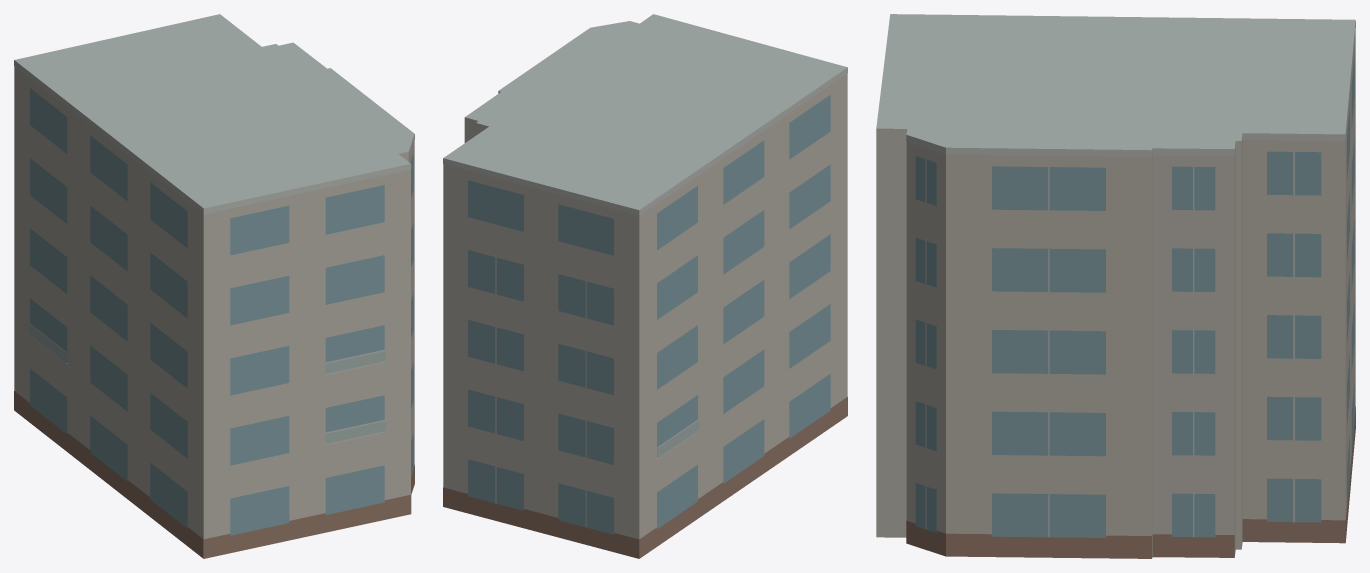
Rendered from survey-upis-32981274.glb.
The picture shows the model from 3 angles, left to right: view 1: azimuth 30°, elevation 25°; view 2: azimuth 150°, elevation 25°; view 3: azimuth 270°, elevation 25°; orthographic projection. The views are drawn at different scales.
Parts seen in each view (by area): view 1: survey-upis-32981274.tmp; view 2: survey-upis-32981274.tmp; view 3: survey-upis-32981274.tmp.
Boxes of the visible parts, left/top/right/bottom form: survey-upis-32981274.tmp: left=14, top=14, right=414, bottom=558; survey-upis-32981274.tmp: left=443, top=14, right=847, bottom=558; survey-upis-32981274.tmp: left=876, top=14, right=1355, bottom=558.
Bounding box in the file's own units: 10.33 × 14.45 × 15.38.
